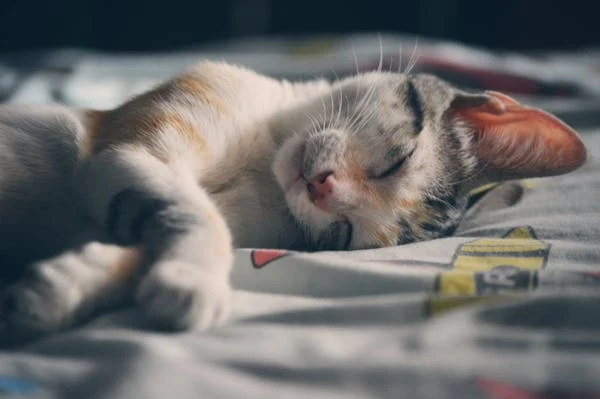Cat: (1, 63, 588, 343)
